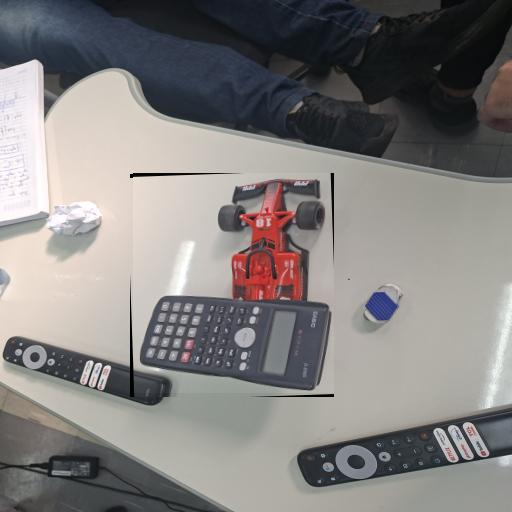carro: (133, 174, 334, 393)
